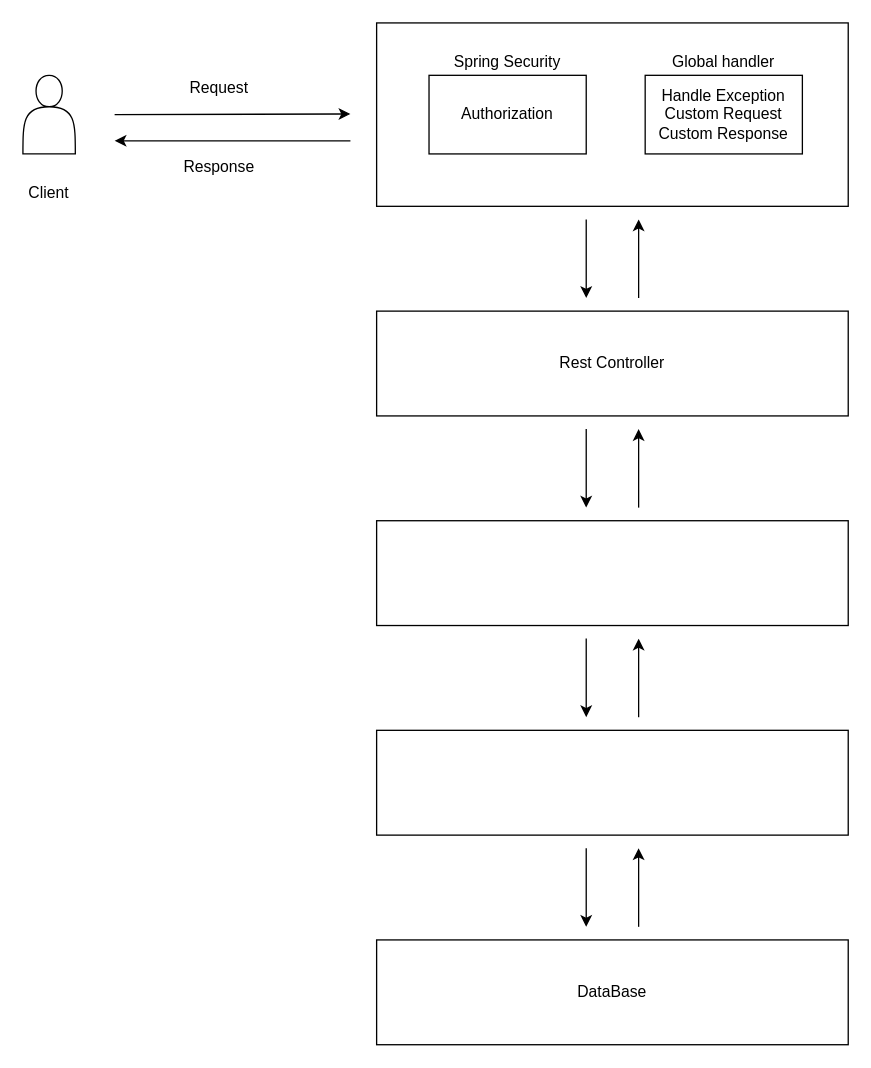
Image size: 871x1068. Some labels were removed from this diagram. The centre of each missing label's shape, as x and y in pixels:
"Repository" belongs at (x=611, y=782).
"Service" belongs at (x=611, y=572).
